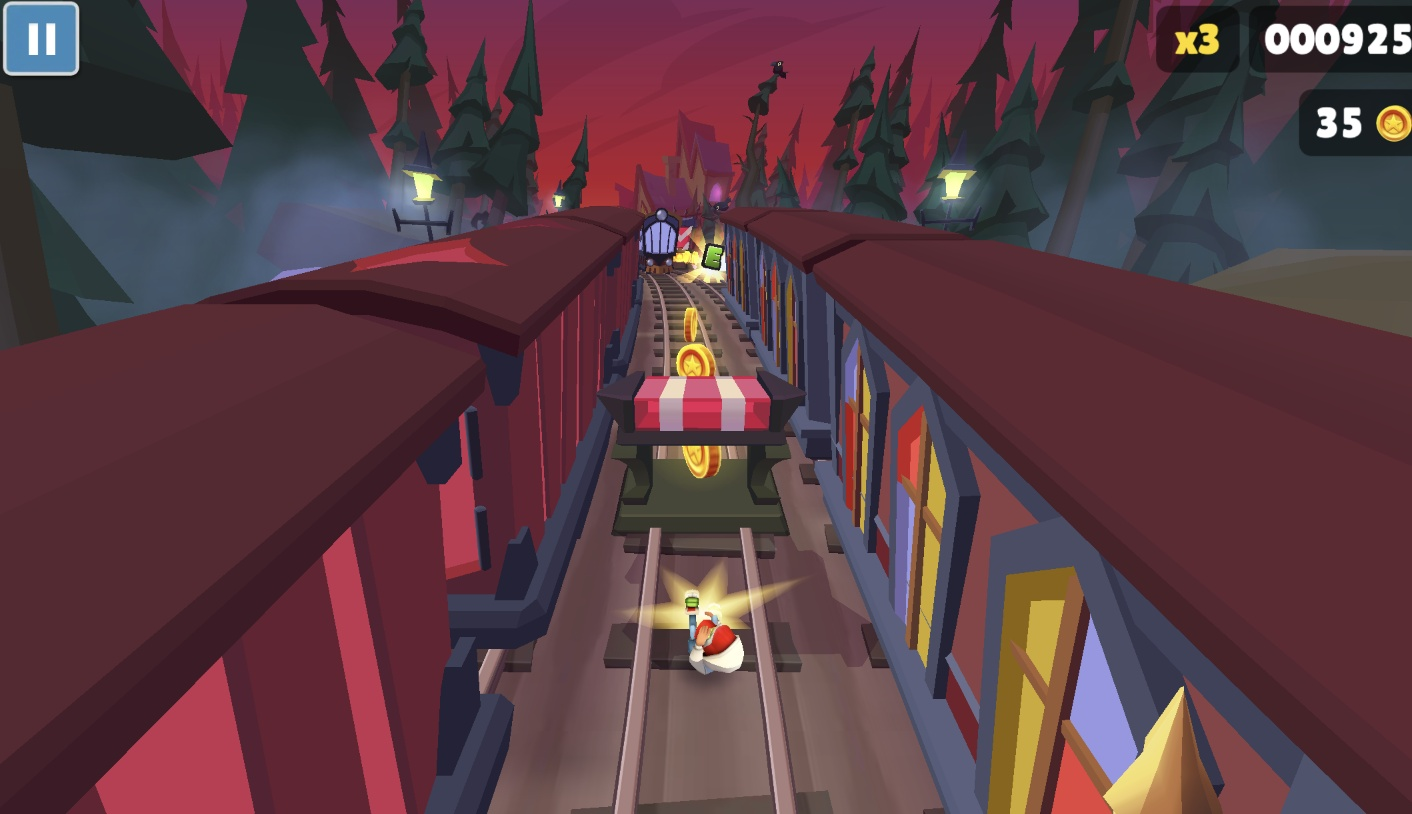ground_barrier: (585, 375, 815, 543)
overhead_barrier: (674, 215, 699, 262)
train: (718, 208, 1412, 814), (0, 206, 648, 814), (638, 209, 686, 274)
